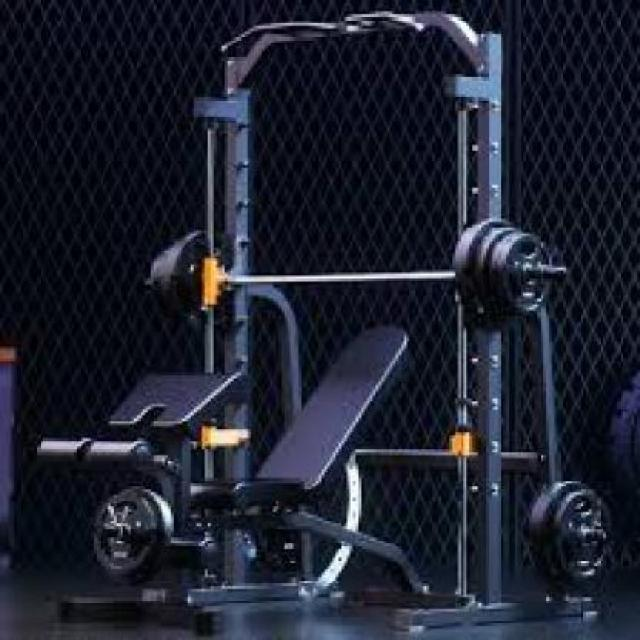smith machine: (43, 12, 609, 632)
